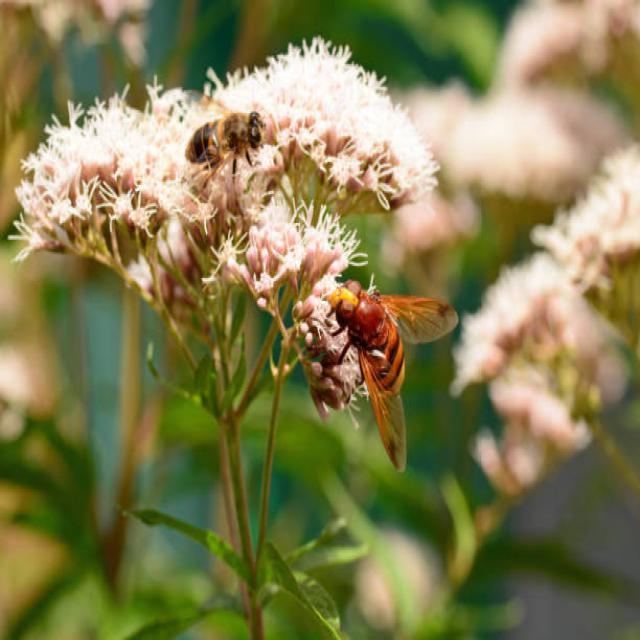Vespa Crabro: (309, 228, 487, 502)
